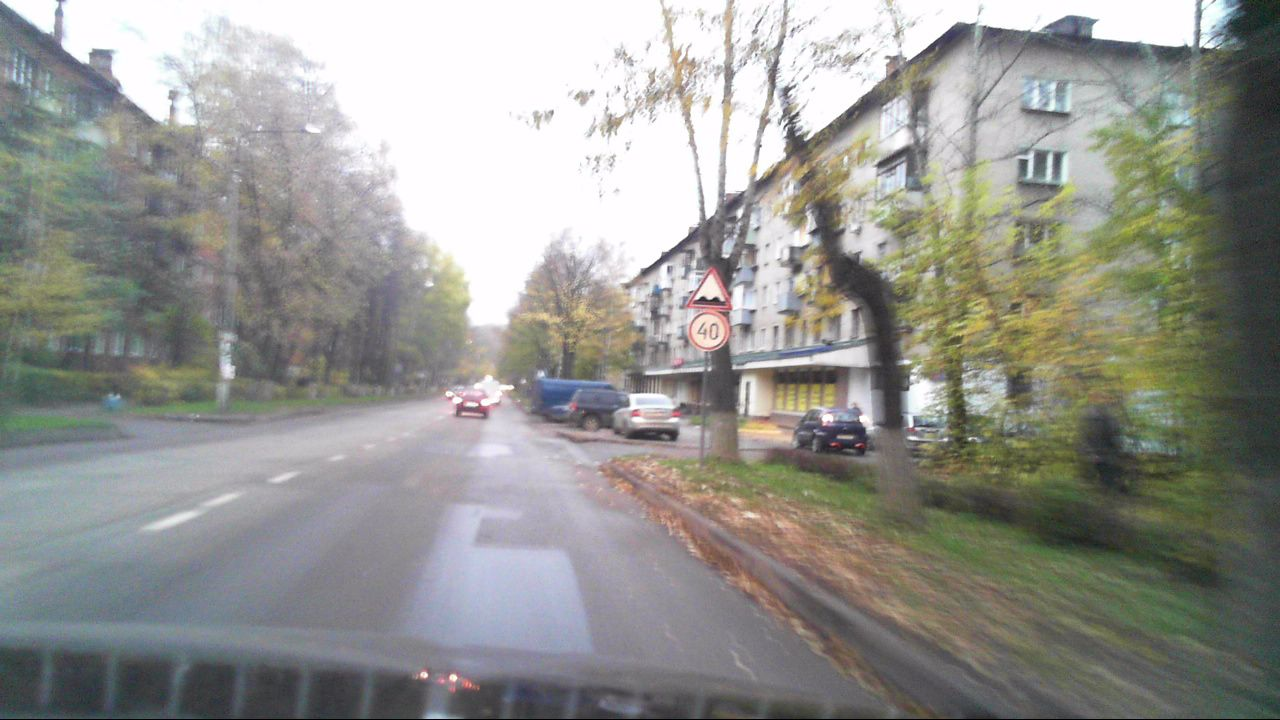speed_warning_40: (690, 311, 730, 350)
